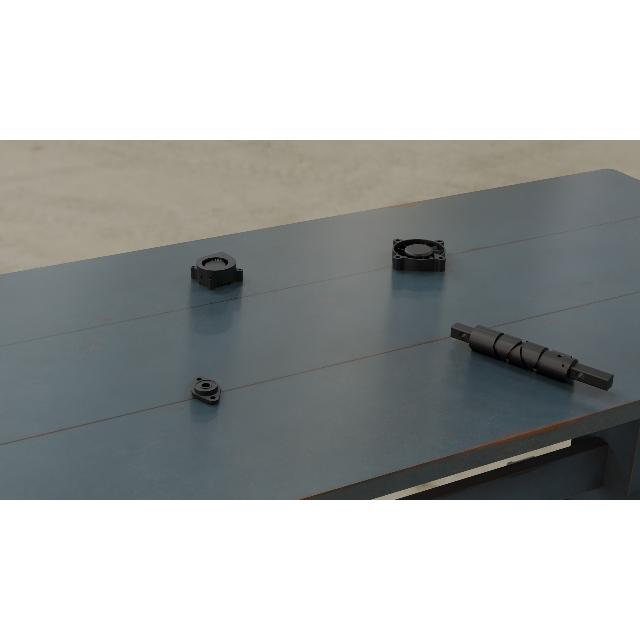Pieza1: (447, 314, 618, 400)
Pieza2: (183, 370, 229, 408)
Pieza3: (188, 252, 246, 292)
Pieza4: (392, 239, 446, 273)
